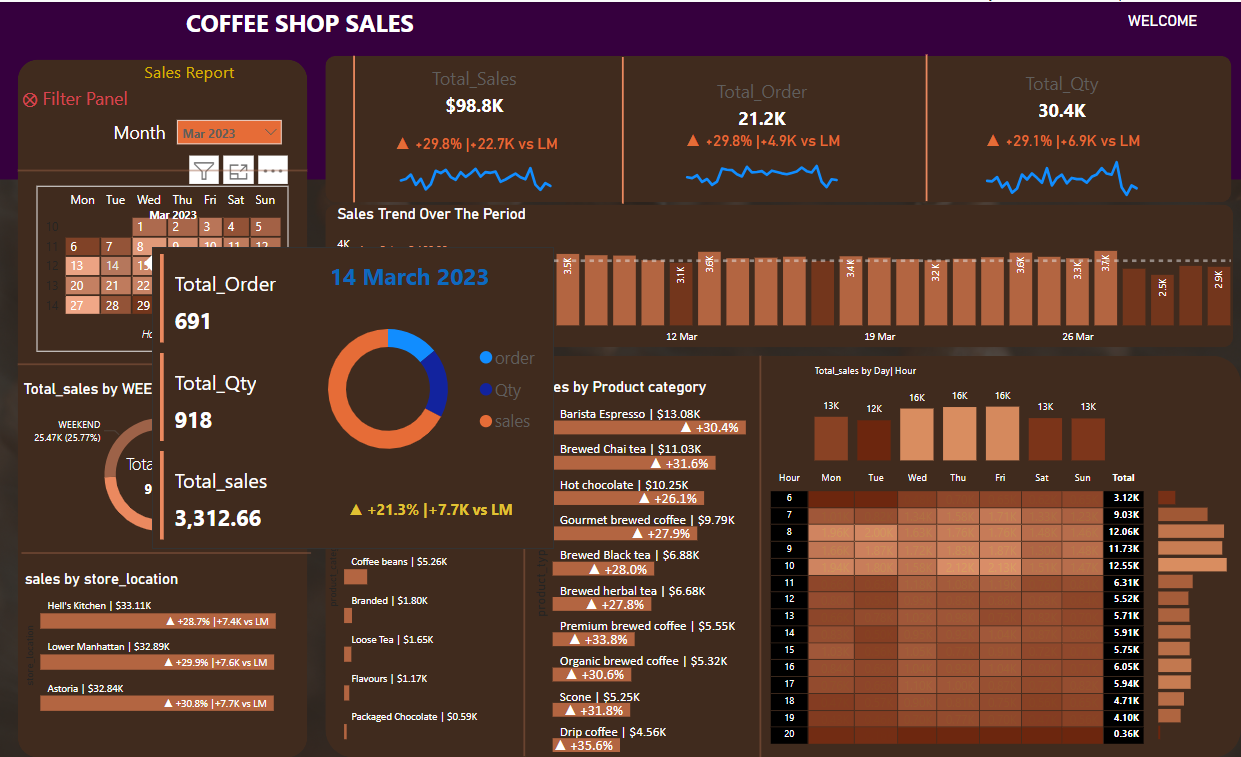

Layout of this report page (visuals, bound fields, positions):
{"tool":"powerbi","page":{"name":"Page 1","canvas":[1400,850],"ordinal":0},"visuals":[{"type":"shape","box":[366.2,397.7,1029.6,451.8],"z":0},{"type":"shape","box":[0,0,1400.3,199.6],"z":1000},{"type":"shape","box":[21,64.5,325.7,785],"z":2000},{"type":"shape","box":[366.2,60,1020.6,165.1],"z":3000},{"type":"slicer","title":"Month","fields":{"Values":["Date_Master.month"]},"box":[195.4,122.9,127.3,54.8],"z":4000},{"type":"card","fields":{"Values":["Sum(coffee_shop_sales_new coffee shop sales_new.sale)"]},"box":[451.8,67.5,166.6,75],"z":5000},{"type":"shape","box":[375.2,60,48,165.1],"z":6000},{"type":"lineChart","fields":{"Category":["Date_Master.Date.Variation.Date Hierarchy.Year","Date_Master.Date.Variation.Date Hierarchy.Quarter","Date_Master.Date.Variation.Date Hierarchy.Month","Date_Master.Date.Variation.Date Hierarchy.Day"],"Series":["Date_Master.month year"],"Y":["coffee_shop_sales_new coffee shop sales_new.Total_Order"]},"box":[436.8,148.6,198.1,79.5],"z":7000},{"type":"shape","box":[676.9,61.5,48,165.1],"z":8000},{"type":"card","fields":{"Values":["coffee_shop_sales_new coffee shop sales_new.Total_Order"]},"box":[774.4,81,166.6,75],"z":9000},{"type":"lineChart","fields":{"Y":["coffee_shop_sales_new coffee shop sales_new.Total_sales"],"Category":["Date_Master.Date.Variation.Date Hierarchy.Year","Date_Master.Date.Variation.Date Hierarchy.Quarter","Date_Master.Date.Variation.Date Hierarchy.Month","Date_Master.Date.Variation.Date Hierarchy.Day"],"Series":["Date_Master.month year"]},"box":[759.4,144.1,198.1,79.5],"z":10000},{"type":"shape","box":[1019.1,58.5,48,165.1],"z":11000},{"type":"card","fields":{"Values":["coffee_shop_sales_new coffee shop sales_new.Total_Qty"]},"box":[1112.1,73.5,166.6,75],"z":12000},{"type":"lineChart","fields":{"Category":["Date_Master.Date.Variation.Date Hierarchy.Year","Date_Master.Date.Variation.Date Hierarchy.Quarter","Date_Master.Date.Variation.Date Hierarchy.Month","Date_Master.Date.Variation.Date Hierarchy.Day"],"Series":["Date_Master.month year"],"Y":["coffee_shop_sales_new coffee shop sales_new.Total_Qty"]},"box":[1095.6,144.1,198.1,79.5],"z":13000},{"type":"pivotTable","fields":{"Columns":["Date_Master.Day_Name"],"Rows":["Date_Master.weeknum"],"Values":["Min(Date_Master.day number)"]},"box":[42,207.1,283.7,186.1],"z":14000},{"type":"card","fields":{"Values":["Min(Date_Master.month year)"]},"box":[126.1,228.1,139.6,28.5],"z":15000},{"type":"card","fields":{"Values":["Date_Master.Foot note"]},"box":[120.1,360.2,246.1,33],"z":16000},{"type":"shape","box":[21,388.7,325.7,36],"z":17000},{"type":"shape","box":[21,171.1,325.7,36],"z":18000},{"type":"donutChart","fields":{"Category":["Date_Master.WEEKEND/WEEKDAY"],"Y":["coffee_shop_sales_new coffee shop sales_new.Total_sales"]},"box":[22.5,424.7,319.7,195.1],"z":19000},{"type":"card","title":"Total_sales","fields":{"Values":["coffee_shop_sales_new coffee shop sales_new.Total_sales"]},"box":[138.1,505.8,99.1,63],"z":20000},{"type":"clusteredBarChart","title":"sales by store_location","fields":{"Category":["coffee_shop_sales_new coffee shop sales_new.store_location"],"Y":["Date_Master.Placeholder","coffee_shop_sales_new coffee shop sales_new.Total_sales"]},"box":[24,637.9,321.2,166.6],"z":21000},{"type":"shape","box":[25.5,601.8,325.7,36],"z":22000},{"type":"shape","box":[366.2,228.1,1020.6,160.6],"z":23000},{"type":"columnChart","title":"Sales Trend Over The Period","fields":{"Y":["coffee_shop_sales_new coffee shop sales_new.Total_sales"],"Category":["coffee_shop_sales_new coffee shop sales_new.transaction_date"]},"box":[375.2,228.1,1020.6,165.1],"z":24000},{"type":"clusteredBarChart","title":"sales by Product category","fields":{"Y":["Date_Master.Placeholder","coffee_shop_sales_new coffee shop sales_new.Total_sales"],"Category":["coffee_shop_sales_new coffee shop sales_new.product_category"]},"box":[365.6,414.5,241.3,420.4],"z":25000},{"type":"clusteredBarChart","title":"sales by Product category","fields":{"Y":["Date_Master.Placeholder","coffee_shop_sales_new coffee shop sales_new.Total_sales"],"Category":["coffee_shop_sales_new coffee shop sales_new.product_type"]},"box":[596.5,423.3,279.8,426.3],"z":26000},{"type":"shape","box":[573.3,397.7,34.5,451.8],"z":27000},{"type":"shape","box":[839.3,398.2,34,451.5],"z":28000},{"type":"pivotTable","fields":{"Columns":["Date_Master.Day_Name"],"Rows":["coffee_shop_sales_new coffee shop sales_new.Hour"],"Values":["coffee_shop_sales_new coffee shop sales_new.Total_sales"]},"box":[863,522.5,435.2,316.8],"z":29000},{"type":"barChart","fields":{"Category":["coffee_shop_sales_new coffee shop sales_new.Hour"],"Y":["coffee_shop_sales_new coffee shop sales_new.Total_sales"]},"box":[1298.2,537.3,102.1,297.5],"z":30000},{"type":"columnChart","title":"Total_sales by Day| Hour","fields":{"Y":["coffee_shop_sales_new coffee shop sales_new.Total_sales"],"Category":["Date_Master.Day_Name"]},"box":[911.8,407.1,337.5,114],"z":31000},{"type":"textbox","box":[205.8,0,290.1,50.3],"z":32000},{"type":"card","fields":{"Values":["Date_Master.Month1"]},"box":[111,131.7,94.7,32.6],"z":33000},{"type":"card","fields":{"Values":["coffee_shop_sales_new coffee shop sales_new.Title"]},"box":[137.7,65.1,153.9,32.6],"z":34000},{"type":"card","fields":{"Values":["coffee_shop_sales_new coffee shop sales_new.Filter panel"]},"box":[0,94.7,171.7,32.6],"z":35000},{"type":"actionButton","title":"WELCOME","box":[1215.2,11,184.8,56.7],"z":36000}]}

Visuals, with their boxes in screenshot pixels (x1, y1, x2, y2), scaled from the page's 1400x850 canvas onto the 1241x757 screenshot:
shape: 325, 354, 1237, 756
shape: 0, 0, 1240, 178
shape: 19, 57, 307, 756
shape: 325, 53, 1229, 200
"Month" slicer: 173, 109, 286, 158
card - Sum(coffee_shop_sales_new coffee shop sales_new.sale): 400, 60, 548, 127
shape: 333, 53, 375, 200
lineChart - Date_Master.Date.Variation.Date Hierarchy.Year x Date_Master.Date.Variation.Date Hierarchy.Quarter: 387, 132, 563, 203
shape: 600, 55, 643, 202
card - coffee_shop_sales_new coffee shop sales_new.Total_Order: 686, 72, 834, 139
lineChart - coffee_shop_sales_new coffee shop sales_new.Total_sales x Date_Master.Date.Variation.Date Hierarchy.Year: 673, 128, 849, 199
shape: 903, 52, 946, 199
card - coffee_shop_sales_new coffee shop sales_new.Total_Qty: 986, 65, 1133, 132
lineChart - Date_Master.Date.Variation.Date Hierarchy.Year x Date_Master.Date.Variation.Date Hierarchy.Quarter: 971, 128, 1147, 199
pivotTable - Date_Master.Day_Name x Date_Master.weeknum: 37, 184, 289, 350
card - Min(Date_Master.month year): 112, 203, 236, 229
card - Date_Master.Foot note: 106, 321, 325, 350
shape: 19, 346, 307, 378
shape: 19, 152, 307, 184
donutChart - Date_Master.WEEKEND/WEEKDAY x coffee_shop_sales_new coffee shop sales_new.Total_sales: 20, 378, 303, 552
"Total_sales" card: 122, 450, 210, 507
"sales by store_location" clusteredBarChart: 21, 568, 306, 716
shape: 23, 536, 311, 568
shape: 325, 203, 1229, 346
"Sales Trend Over The Period" columnChart: 333, 203, 1237, 350
"sales by Product category" clusteredBarChart: 324, 369, 538, 744
"sales by Product category" clusteredBarChart: 529, 377, 777, 756
shape: 508, 354, 539, 756
shape: 744, 355, 774, 756
pivotTable - Date_Master.Day_Name x coffee_shop_sales_new coffee shop sales_new.Hour: 765, 465, 1151, 747
barChart - coffee_shop_sales_new coffee shop sales_new.Hour x coffee_shop_sales_new coffee shop sales_new.Total_sales: 1151, 479, 1240, 743
"Total_sales by Day| Hour" columnChart: 808, 363, 1107, 464
textbox: 182, 0, 440, 45
card - Date_Master.Month1: 98, 117, 182, 146
card - coffee_shop_sales_new coffee shop sales_new.Title: 122, 58, 258, 87
card - coffee_shop_sales_new coffee shop sales_new.Filter panel: 0, 84, 152, 113
"WELCOME" actionButton: 1077, 10, 1240, 60
